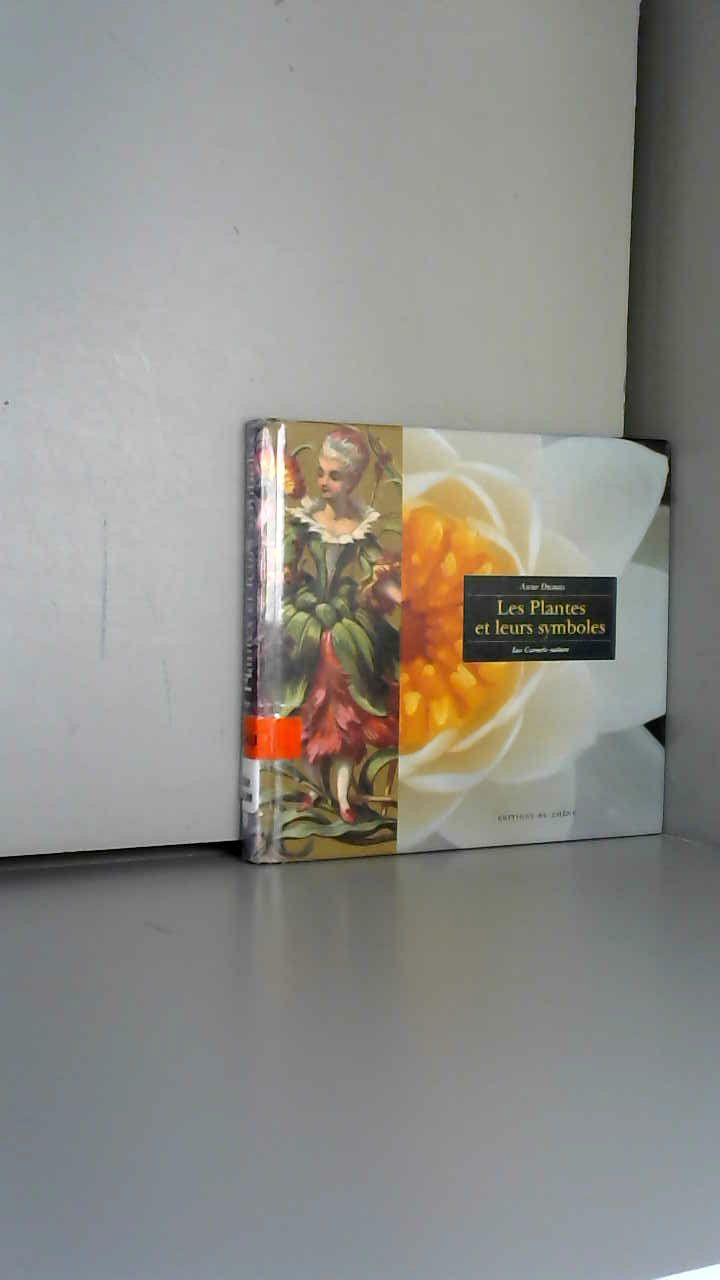book: (210, 390, 720, 892)
